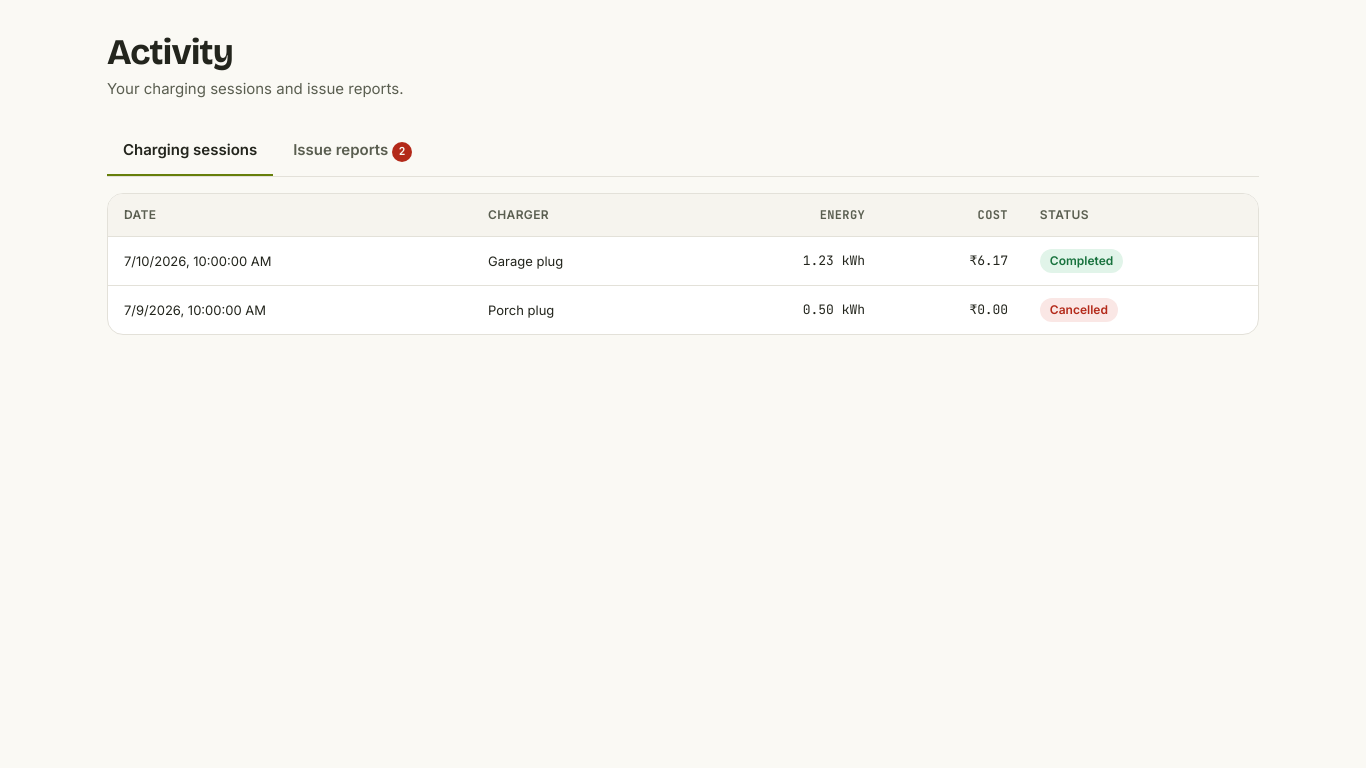
Test case: Activity — session detail modal › opens the detail modal on row click with energy/duration/cost
Click the text "Garage plug": click(581, 261) [472,237,690,286]
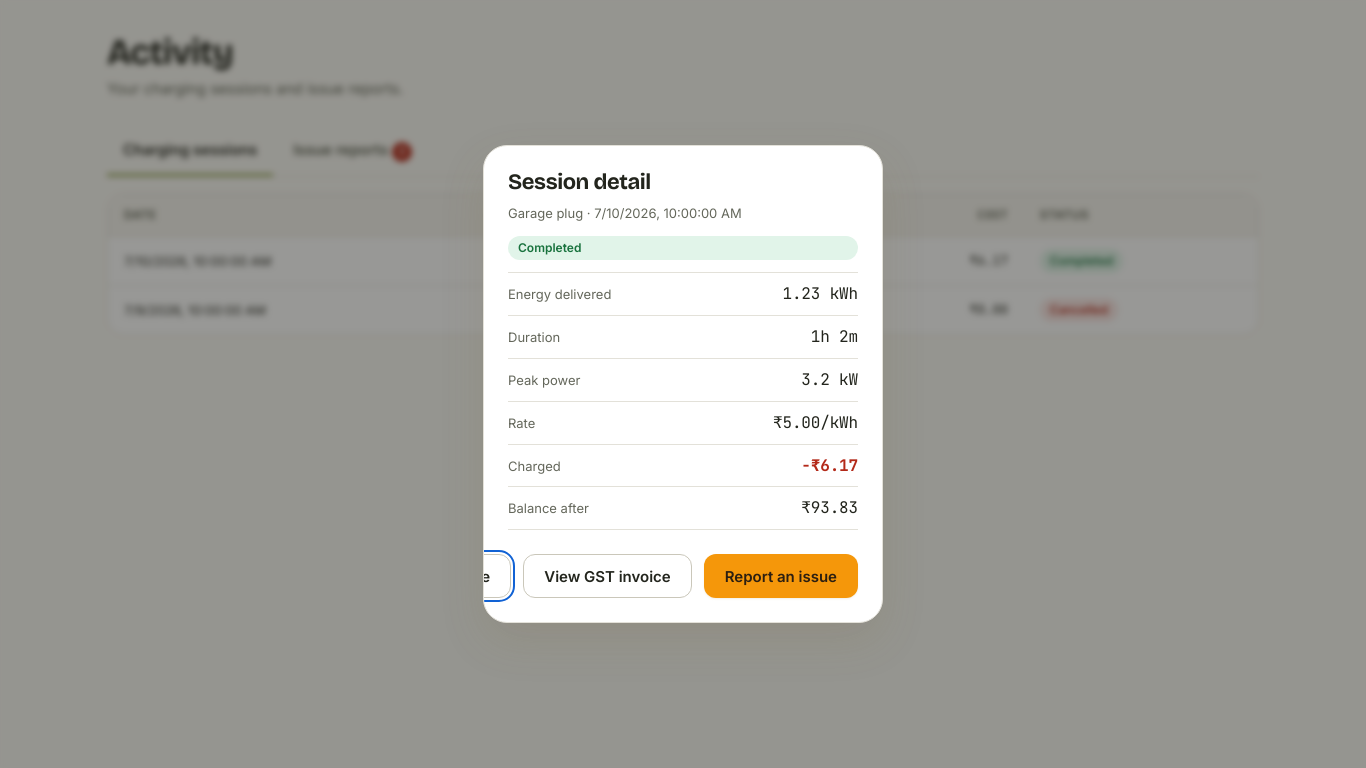
Now the heading "Session detail" is shown, box [508,169,651,195]
Now the text "1.23 kWh" is shown, box [782,284,858,304]
Now the text "1h 2m" is shown, box [811,326,858,347]
